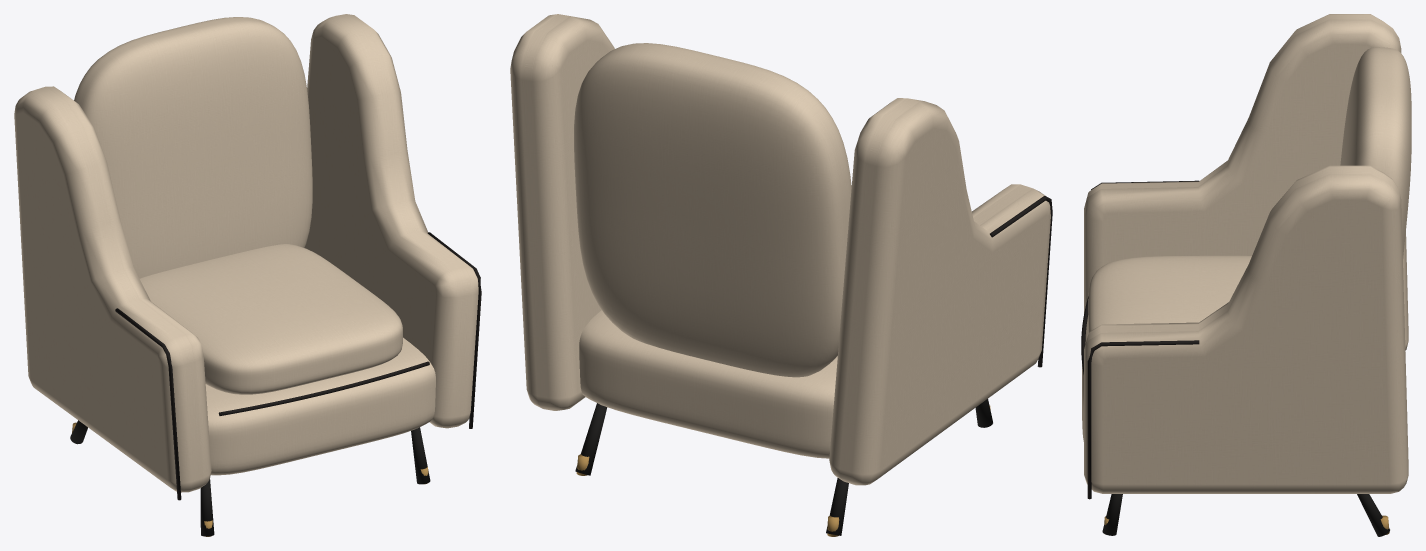
File: cavali-sofa-set--arm.glb
3 renders of one model, left to right at view 1: azimuth 30°, elevation 25°; view 2: azimuth 150°, elevation 25°; view 3: azimuth 270°, elevation 25°, orthographic. The views are drawn at different scales.
Parts seen in each view (by area): view 1: back, side-1, side1, cushion, base, pipe_seat, pipe-1, pipe1, leg1-0.28, leg-1-0.28; view 2: back, side-1, side1, base, leg10.26, pipe-1, leg-10.26; view 3: side1, side-1, cushion, back, pipe1, leg10.26, leg1-0.28.
Boxes of the visible parts, left/top/right/bottom form: back: left=74, top=17, right=312, bottom=278; side-1: left=14, top=86, right=211, bottom=492; side1: left=304, top=14, right=478, bottom=428; cushion: left=139, top=244, right=402, bottom=394; base: left=205, top=337, right=435, bottom=475; pipe_seat: left=218, top=361, right=429, bottom=415; pipe-1: left=115, top=308, right=181, bottom=500; pipe1: left=427, top=232, right=481, bottom=428; leg1-0.28: left=411, top=427, right=430, bottom=484; leg-1-0.28: left=200, top=479, right=214, bottom=536; back: left=574, top=43, right=851, bottom=377; side-1: left=829, top=98, right=1050, bottom=485; side1: left=510, top=14, right=614, bottom=410; base: left=579, top=310, right=837, bottom=458; leg10.26: left=575, top=403, right=607, bottom=475; pipe-1: left=990, top=196, right=1052, bottom=367; leg-10.26: left=826, top=478, right=848, bottom=535; side1: left=1084, top=165, right=1408, bottom=493; side-1: left=1084, top=14, right=1408, bottom=350; cushion: left=1088, top=255, right=1251, bottom=333; back: left=1340, top=47, right=1411, bottom=258; pipe1: left=1087, top=340, right=1199, bottom=499; leg10.26: left=1357, top=494, right=1389, bottom=536; leg1-0.28: left=1102, top=494, right=1122, bottom=535.
Bounding box in the file's own units: 0.9757 × 1.06 × 0.7831.
Materials: 4 (1 with a texture image).
